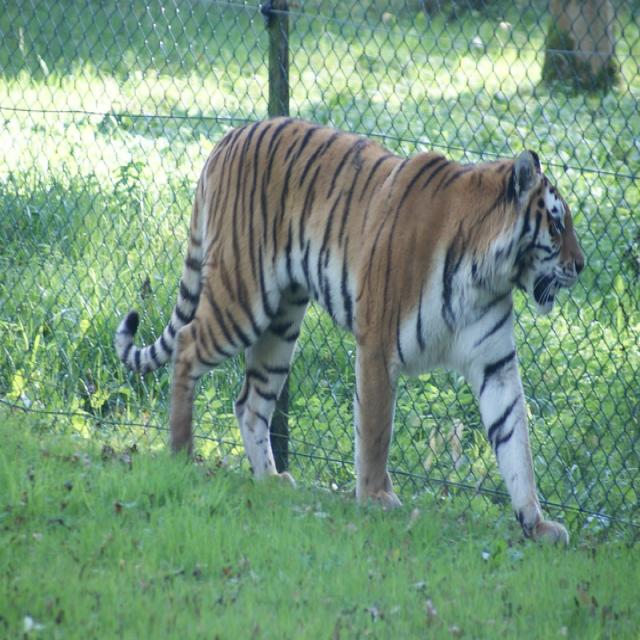Tiger: (114, 113, 584, 550)
